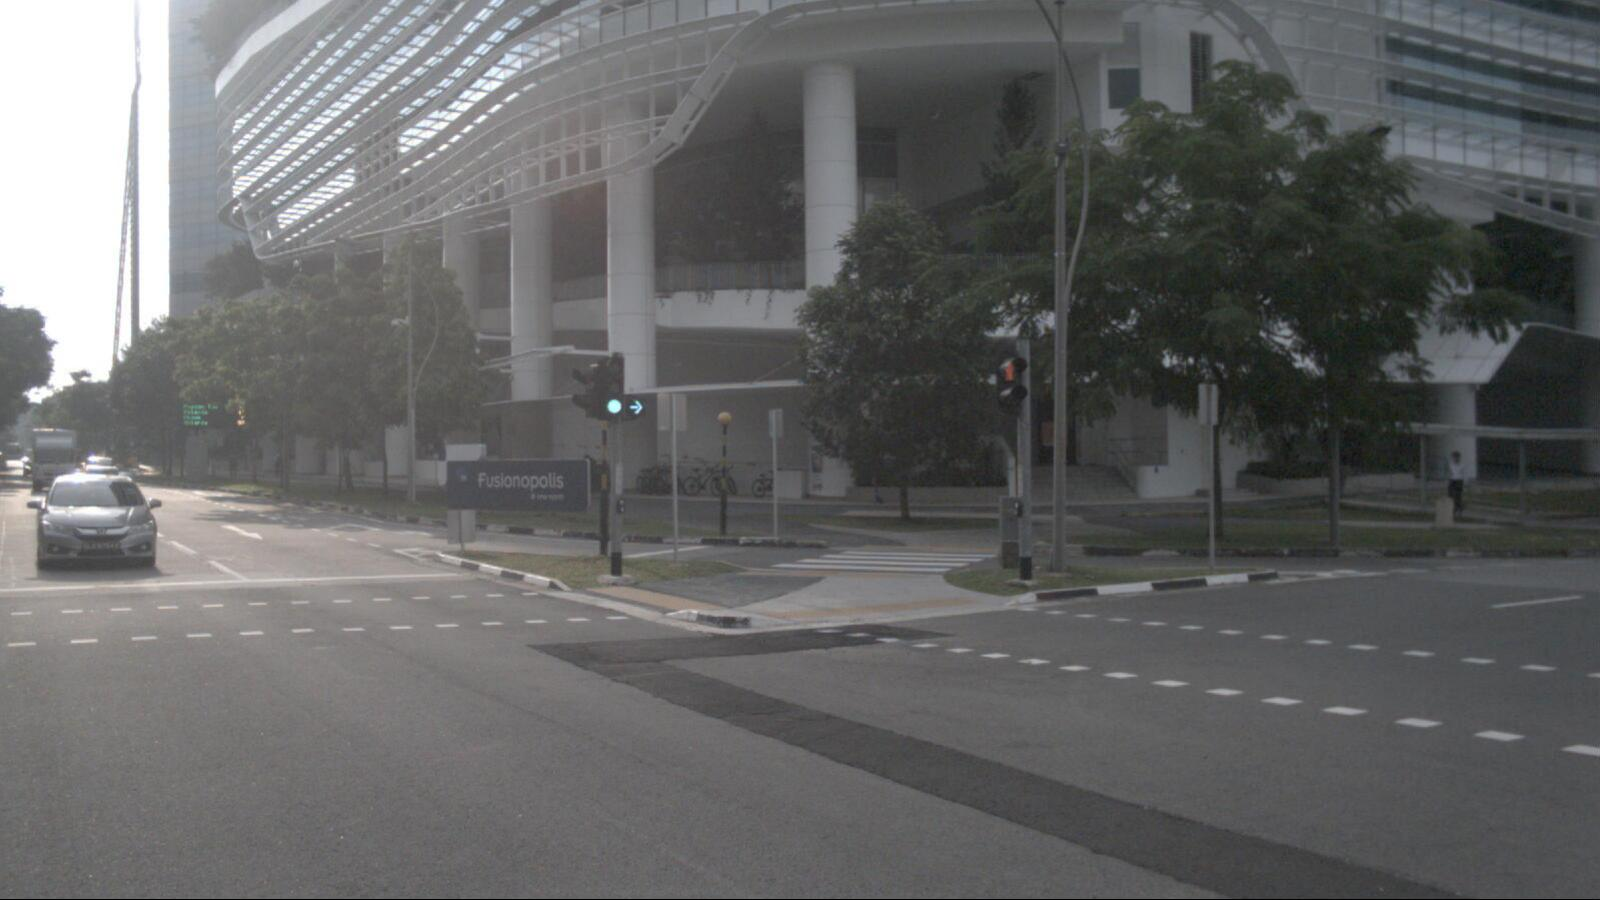human.pedestrian.adult-pedestrian.moving: (1445, 451, 1466, 518), (227, 451, 239, 481), (273, 449, 283, 475)
